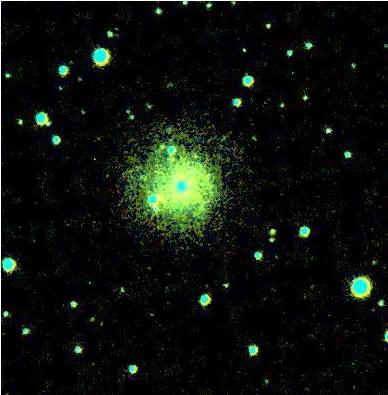star: (181, 146, 211, 176)
